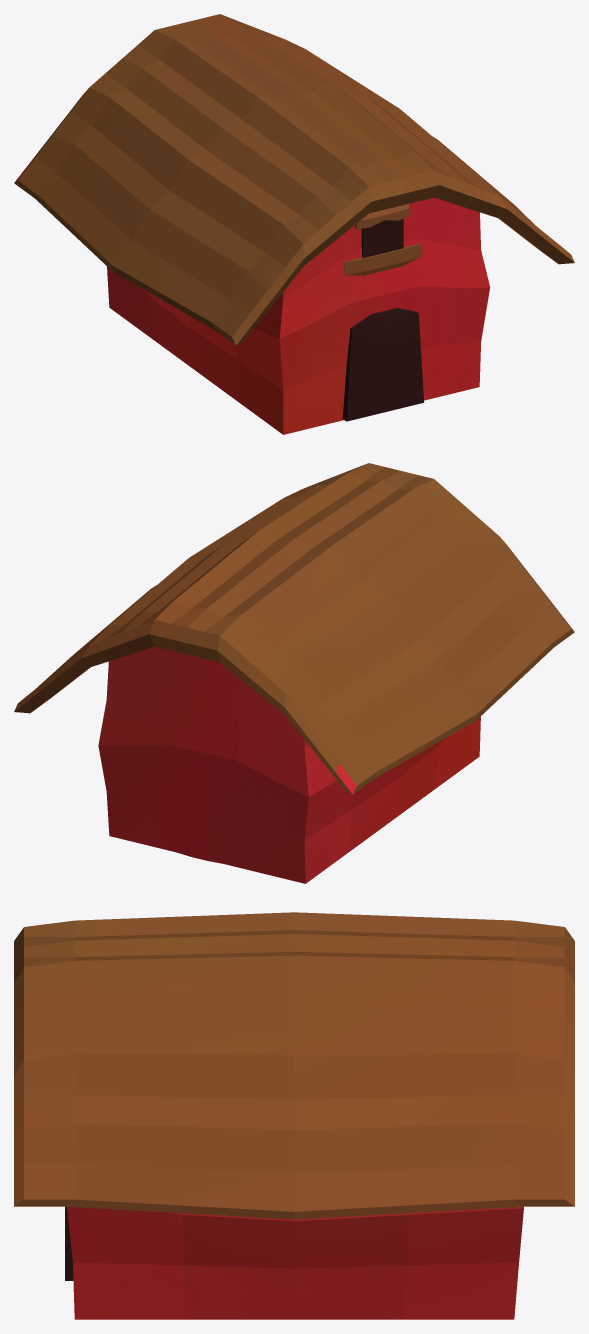
The model's file is SM_Farm_Building_Barn.fbx.
The picture shows the model from 3 angles, top to bottom: view 1: azimuth 30°, elevation 25°; view 2: azimuth 150°, elevation 25°; view 3: azimuth 270°, elevation 25°; orthographic projection. The views are drawn at different scales.
Visible parts, largest first — view 1: Cube; view 2: Cube; view 3: Cube.
Boxes of the visible parts, x1,y1,x2,y2 form: Cube: [14, 14, 574, 434]; Cube: [14, 463, 574, 883]; Cube: [14, 912, 574, 1319].
Size of the model in its own units: 1683 by 1141 by 1778.
Materials: 1 (1 with a texture image).
